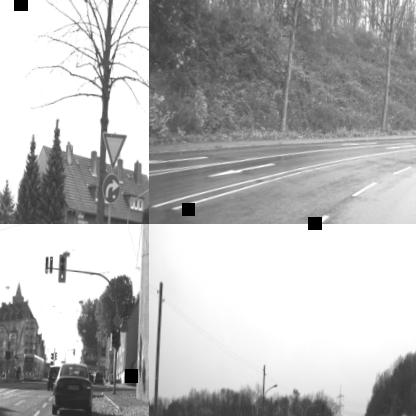give way: (100, 131, 126, 170)
go right or straight: (101, 172, 120, 204)
priority road: (112, 312, 122, 328)
speed limit 50: (399, 411, 407, 416)
